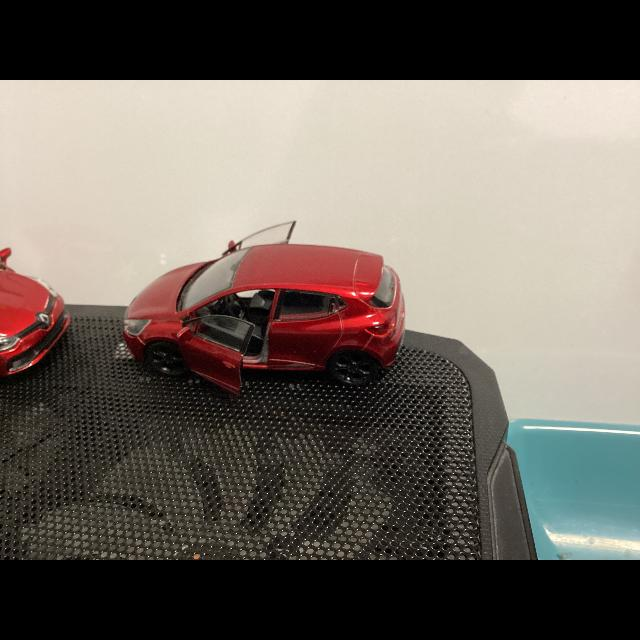Dogru_Jant: (335, 353, 375, 382), (151, 347, 183, 373)
